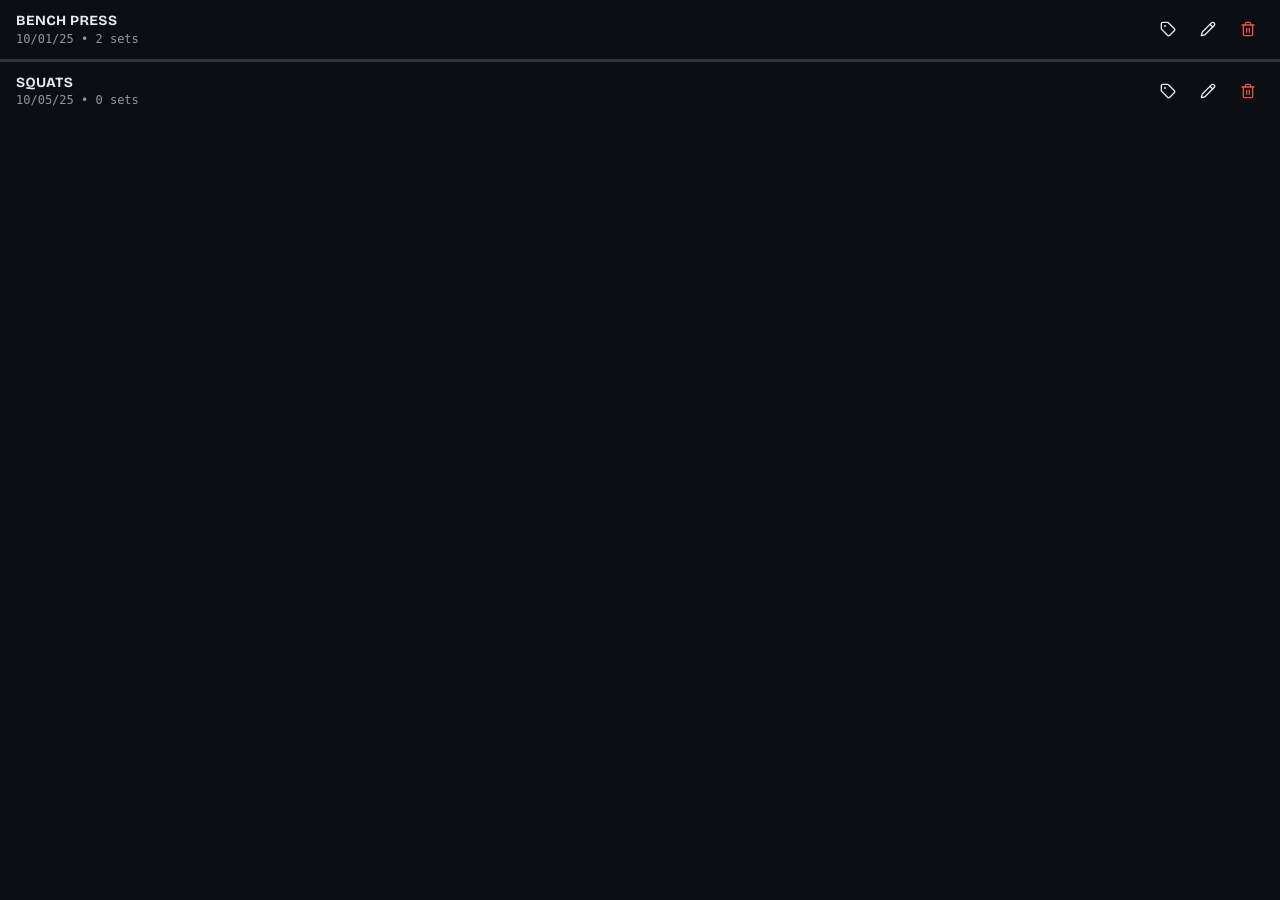
it: ExerciseManager › delete exercise › shows different message for exercises without sets
This screenshot has width=1280, height=900.
Step 1. Click the button named "Delete" in the row of "10/05/25 • 0 sets" → (1248, 91), box x1=1232 y1=75 x2=1264 y2=107
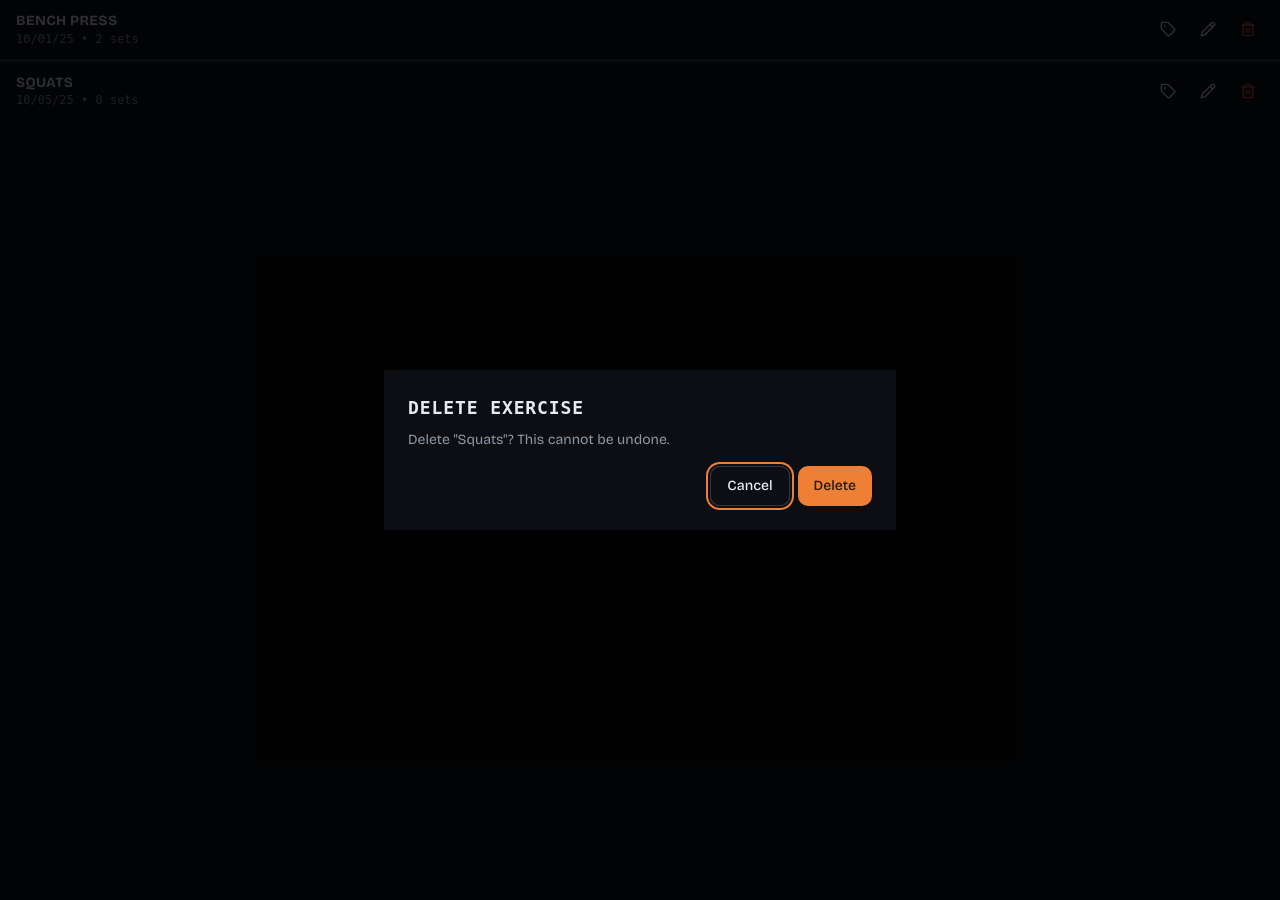
Expected: the dialog is shown, x1=384 y1=370 x2=896 y2=530
Expected: the dialog shows "cannot be undone", x1=503 y1=431 x2=669 y2=448
